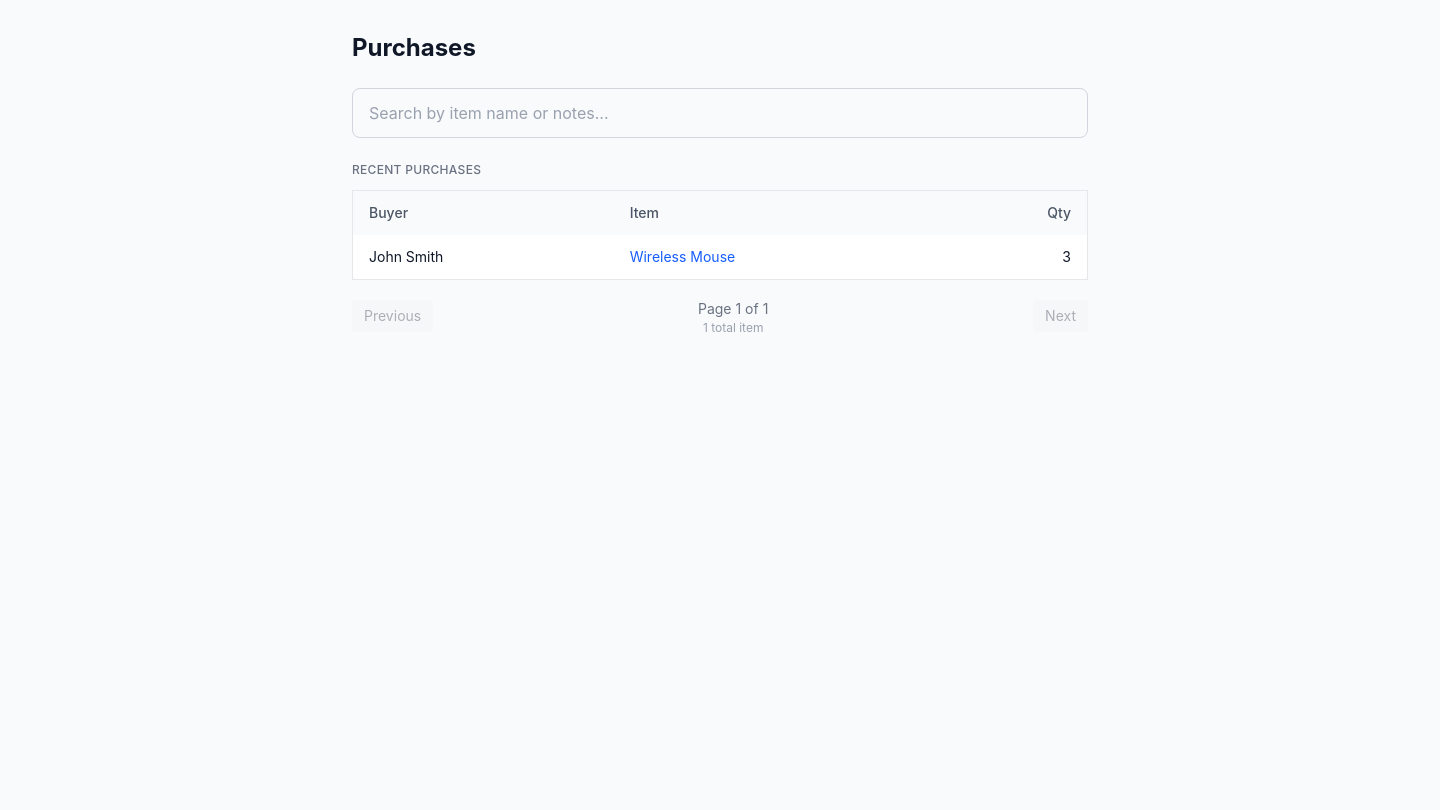
Scenario: PurchasesPage › clicking item name opens notes modal
Click the button "Wireless Mouse" at (682, 257), box [630,247,735,267]
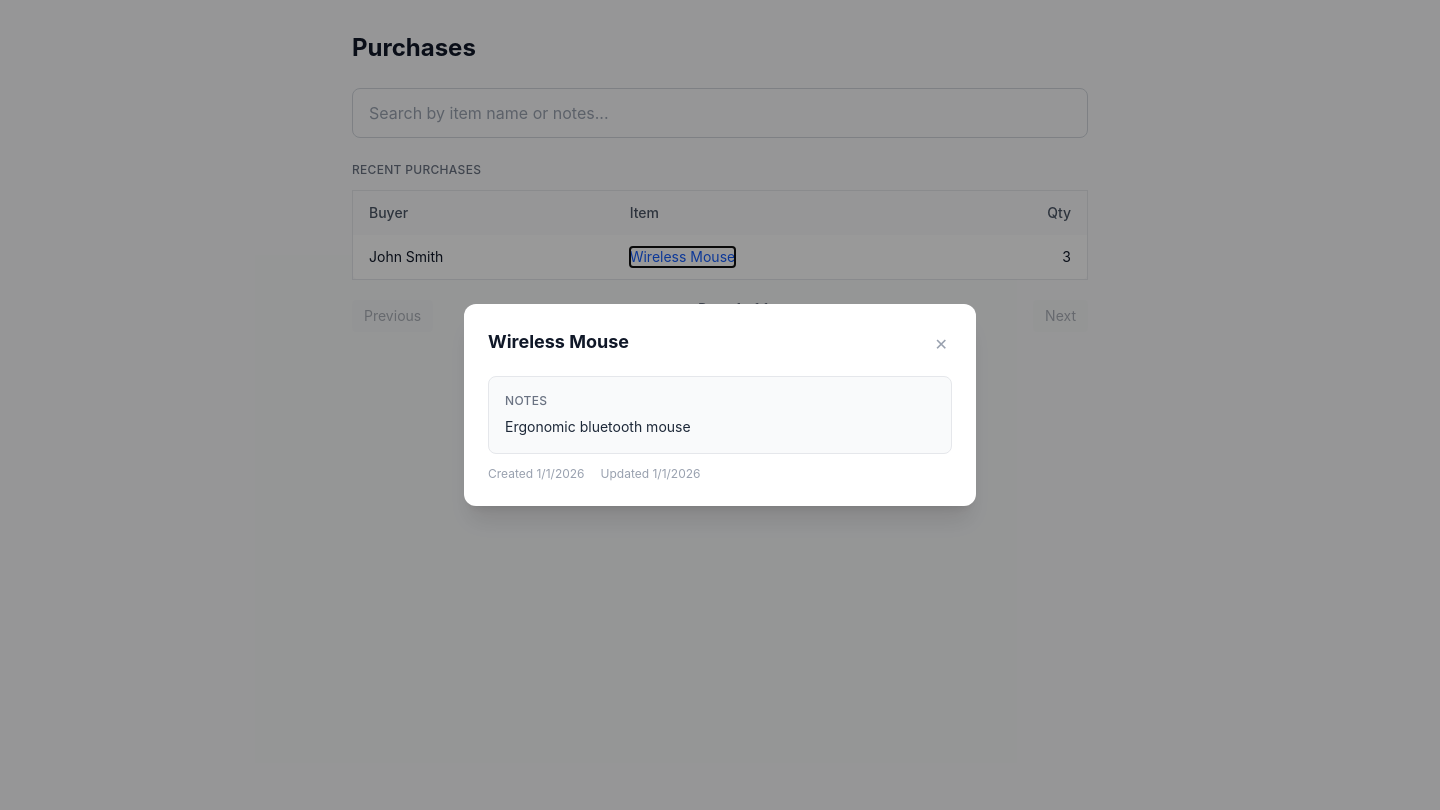
expect the text "Ergonomic bluetooth mouse" is shown: met, box [505,418,691,435]
